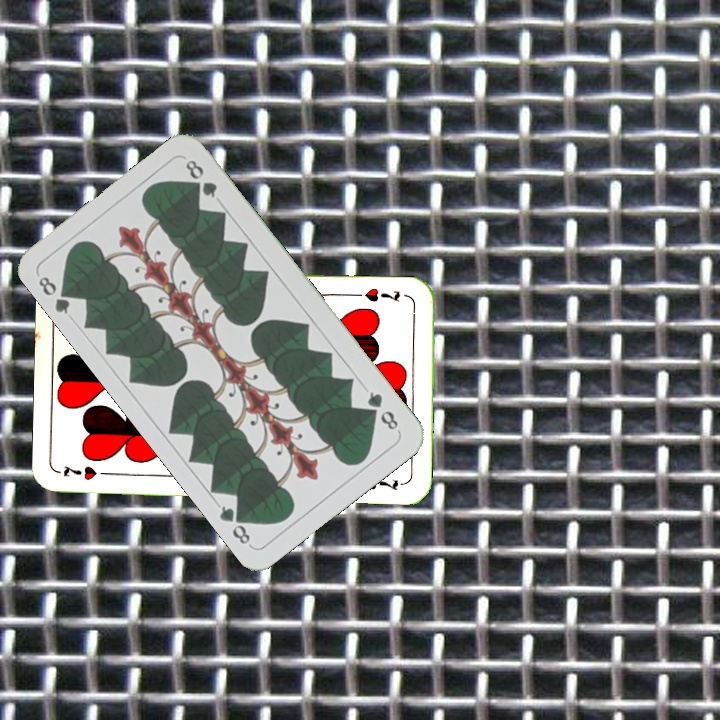G8: (34, 272, 77, 317), (363, 387, 402, 434)
H7: (59, 462, 116, 482), (361, 284, 403, 305)
